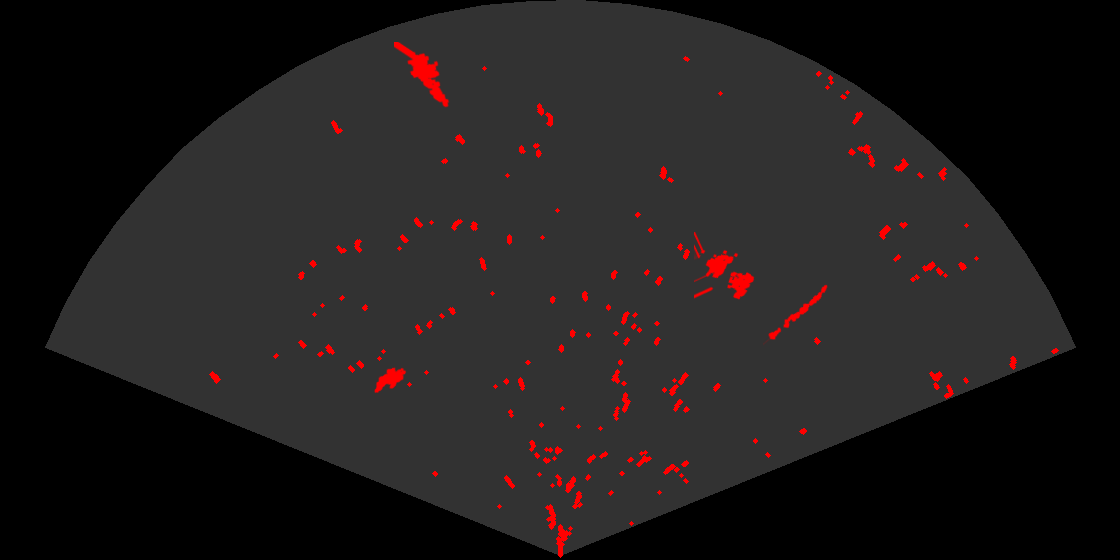AUV: (373, 366, 408, 395)
cage: (694, 232, 756, 301)
chain: (763, 283, 829, 347)
frogman: (394, 42, 451, 109)
